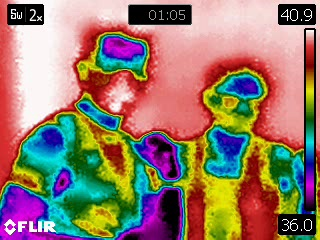human: (1, 24, 185, 240), (173, 56, 320, 240)
